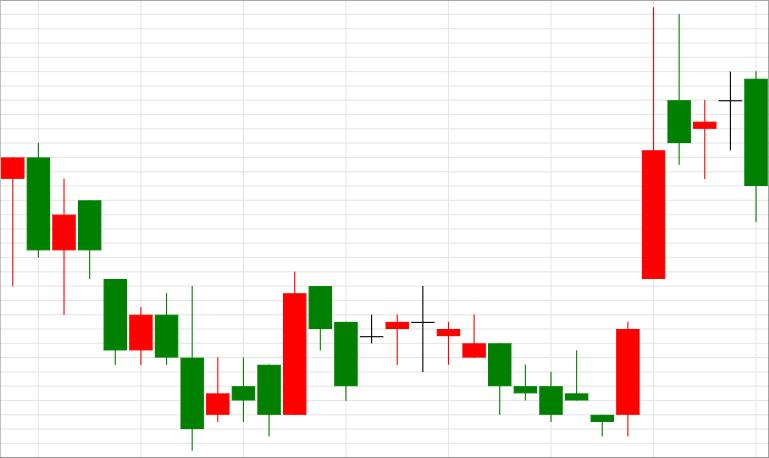shooting_star_fall: (590, 8, 691, 436)
